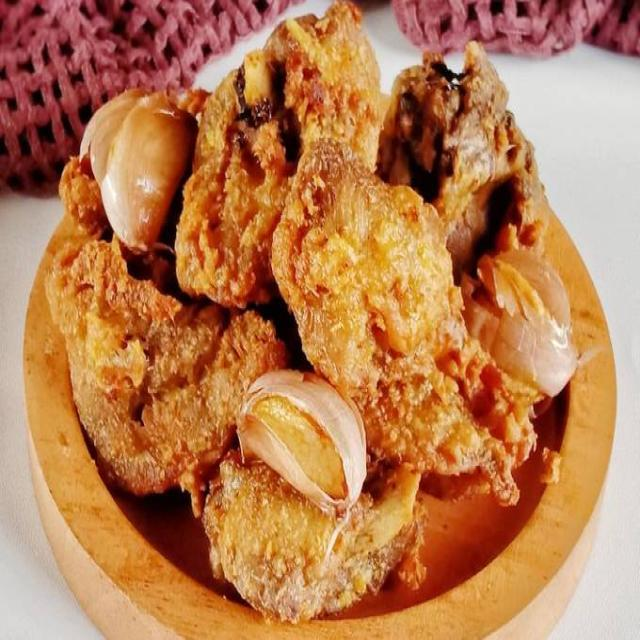ayam_goreng: (45, 14, 583, 608)
